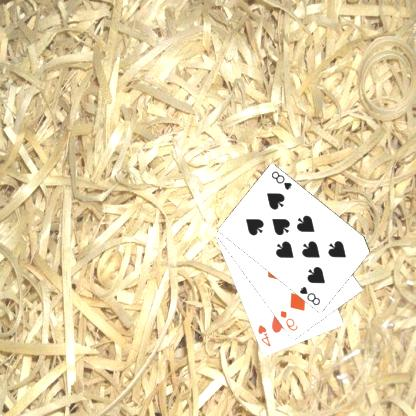4H: (257, 322, 274, 348)
6D: (279, 308, 301, 332)
8S: (270, 168, 295, 192), (299, 284, 323, 307)
